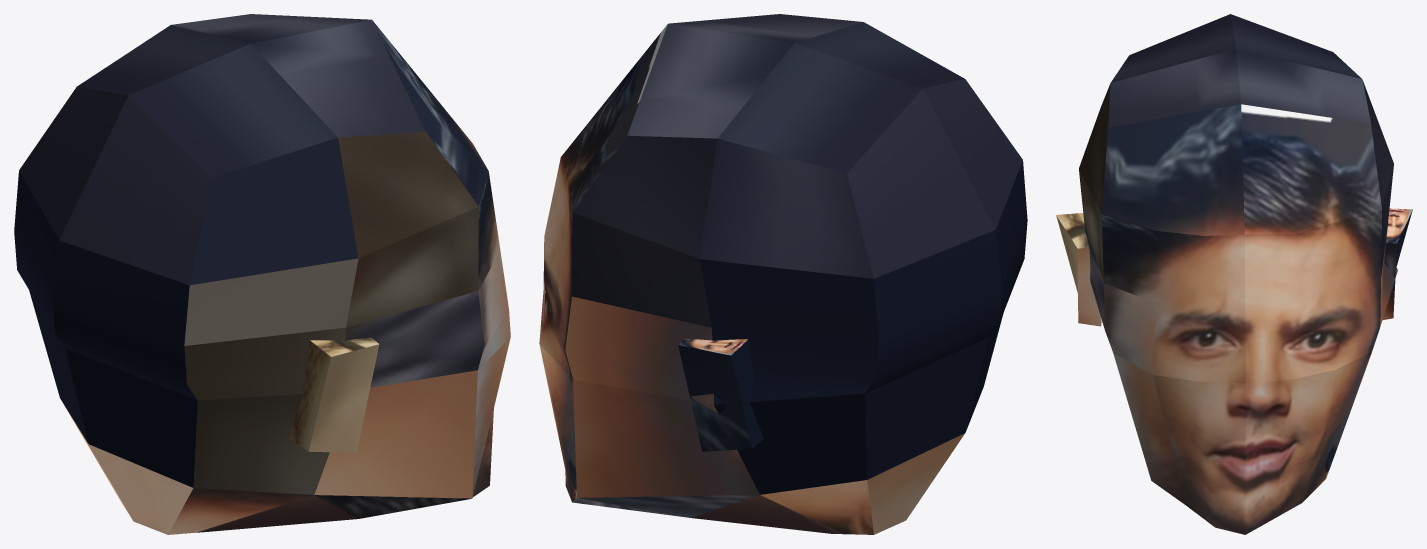
The model's file is puneetstar.fbx.
The picture shows the model from 3 angles, left to right: view 1: azimuth 30°, elevation 25°; view 2: azimuth 150°, elevation 25°; view 3: azimuth 270°, elevation 25°; orthographic projection. The views are drawn at different scales.
Parts seen in each view (by area): view 1: Cylinder; view 2: Cylinder; view 3: Cylinder.
Part boxes in pixels (x1=…): Cylinder: x1=14, y1=14, x2=510, y2=534; Cylinder: x1=539, y1=14, x2=1027, y2=534; Cylinder: x1=1056, y1=14, x2=1412, y2=534.
Size of the model in its own units: 91.45 by 99.26 by 80.57.
1 material, 1 textured.
